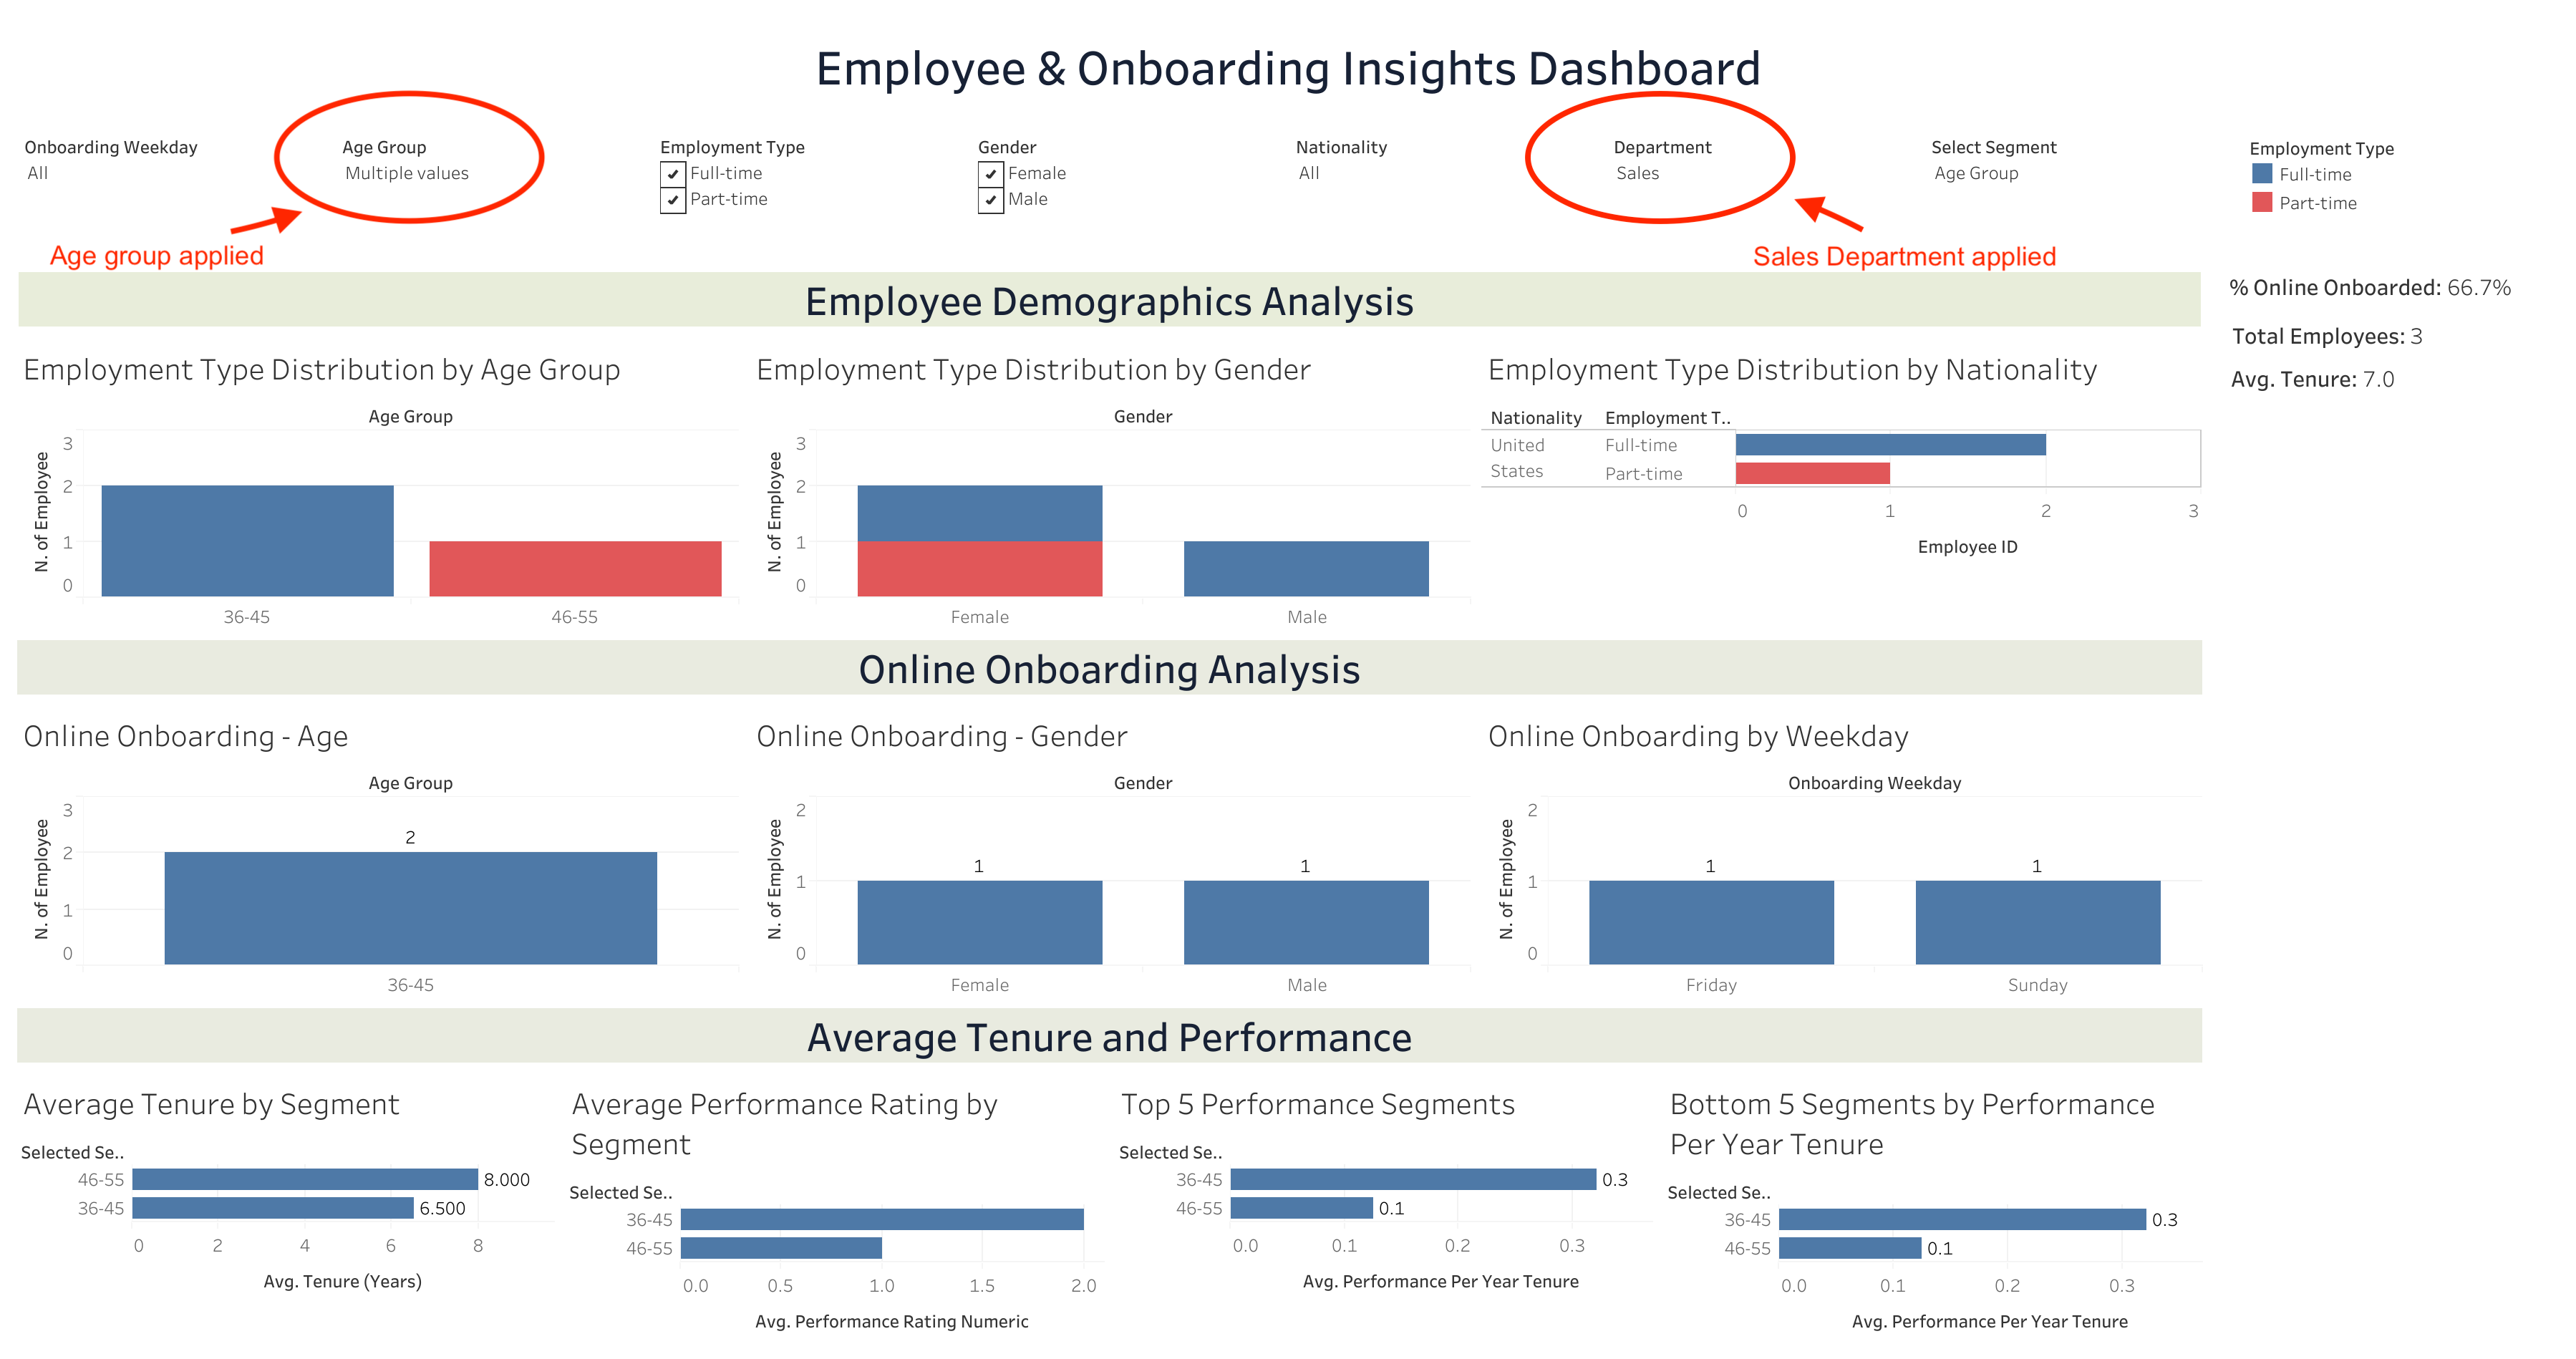

Layout of this report page (visuals, bound fields, positions):
{"tool":"tableau","page":{"name":"Dashboard 1","canvas":[1800,950],"ordinal":0},"visuals":[{"type":"text","box":[8,8,1784,75.1]},{"type":"filter","title":"% Online Onboarding","param":"[federated.0z5hum711jlxwx1byyx951mdgpax].[none:Calculation_1055547055198456:nk]","box":[13,88,222,92]},{"type":"filter","title":"% Online Onboarding","param":"[federated.0z5hum711jlxwx1byyx951mdgpax].[none:Calculation_1055547054964982:nk]","box":[235,88,222,92]},{"type":"filter","title":"% Online Onboarding","param":"[federated.0z5hum711jlxwx1byyx951mdgpax].[none:EmploymentType:nk]","box":[457,88,222,92]},{"type":"filter","title":"% Online Onboarding","param":"[federated.0z5hum711jlxwx1byyx951mdgpax].[none:Gender:nk]","box":[679,88,222,92]},{"type":"filter","title":"% Online Onboarding","param":"[federated.0z5hum711jlxwx1byyx951mdgpax].[none:Nationality:nk]","box":[901,88,222,92]},{"type":"filter","title":"% Online Onboarding","param":"[federated.0z5hum711jlxwx1byyx951mdgpax].[none:Department:nk]","box":[1123,88,222,92]},{"type":"parameter","param":"[Parameters].[Parameter 1]","box":[1345,88,221,92]},{"type":"legend","title":"Employment Type Distribution by Age Group","param":"[federated.0z5hum711jlxwx1byyx951mdgpax].[none:EmploymentType:nk]","box":[1566,88,221,92]},{"type":"text","box":[8,185,1534,48]},{"type":"worksheet","title":"% Online Onboarding","mark":"Automatic","box":[1542,185,250,34]},{"type":"worksheet","title":"Total Employees","mark":"Automatic","box":[1542,219,250,30]},{"type":"worksheet","title":"Employment Type Distribution by Age Group","mark":"Bar","rows":["EmployeeID"],"cols":["Calculation_1055547054964982"],"box":[8,233,512,216]},{"type":"worksheet","title":"Employment Type Distribution by Gender","mark":"Bar","rows":["EmployeeID"],"cols":["Gender"],"box":[520,233,511,216]},{"type":"worksheet","title":"Employment Type Distribution by Nationality","mark":"Automatic","rows":["Nationality","EmploymentType"],"cols":["EmployeeID"],"box":[1031,233,511,216]},{"type":"worksheet","title":"Avg. Company Tenure","mark":"Automatic","box":[1542,249,250,30]},{"type":"text","box":[8,449,1534,46]},{"type":"worksheet","title":"Online Onboarding - Age","mark":"Bar","rows":["EmployeeID"],"cols":["Calculation_1055547054964982"],"box":[8,495,512,185]},{"type":"worksheet","title":"Online Onboarding - Gender","mark":"Automatic","rows":["EmployeeID"],"cols":["Gender"],"box":[520,495,511,185]},{"type":"worksheet","title":"Online Onboarding by Weekday","mark":"Automatic","rows":["EmployeeID"],"cols":["Calculation_1055547055198456"],"box":[1031,495,511,185]},{"type":"text","box":[8,680,1534,46]},{"type":"worksheet","title":"Average Tenure by Segment","mark":"Automatic","rows":["Calculation_1055547095777293"],"cols":["Calculation_1055547055026423"],"box":[8,726,383.5,216]},{"type":"worksheet","title":"Average Performance Rating by Segment","mark":"Automatic","rows":["Calculation_1055547095777293"],"cols":["Calculation_1055547055374585"],"box":[391.5,726,383.5,216]},{"type":"worksheet","title":"Top 5 Performance Segments","mark":"Automatic","rows":["Calculation_1055547095777293"],"cols":["Calculation_1055547056521466"],"box":[775,726,383.5,216]},{"type":"worksheet","title":"Bottom 5 Performance Segments (2)","mark":"Automatic","rows":["Calculation_1055547095777293"],"cols":["Calculation_1055547056521466"],"box":[1158.5,726,383.5,216]}]}

Visuals, with their boxes in screenshot pixels (x1, y1, x2, y2), scaled from the page's 1800x950 canvas onto the 2576x1359 screenshot:
text: crop(11, 11, 2565, 119)
"% Online Onboarding" filter: crop(19, 126, 336, 258)
"% Online Onboarding" filter: crop(336, 126, 654, 258)
"% Online Onboarding" filter: crop(654, 126, 972, 258)
"% Online Onboarding" filter: crop(972, 126, 1289, 258)
"% Online Onboarding" filter: crop(1289, 126, 1607, 258)
"% Online Onboarding" filter: crop(1607, 126, 1925, 258)
parameter: crop(1925, 126, 2241, 258)
"Employment Type Distribution by Age Group" legend: crop(2241, 126, 2557, 258)
text: crop(11, 265, 2207, 334)
"% Online Onboarding" worksheet: crop(2207, 265, 2565, 314)
"Total Employees" worksheet: crop(2207, 314, 2565, 356)
"Employment Type Distribution by Age Group" worksheet (Bar marks): crop(11, 334, 744, 642)
"Employment Type Distribution by Gender" worksheet (Bar marks): crop(744, 334, 1476, 642)
"Employment Type Distribution by Nationality" worksheet: crop(1476, 334, 2207, 642)
"Avg. Company Tenure" worksheet: crop(2207, 356, 2565, 399)
text: crop(11, 642, 2207, 708)
"Online Onboarding - Age" worksheet (Bar marks): crop(11, 708, 744, 973)
"Online Onboarding - Gender" worksheet: crop(744, 708, 1476, 973)
"Online Onboarding by Weekday" worksheet: crop(1476, 708, 2207, 973)
text: crop(11, 973, 2207, 1038)
"Average Tenure by Segment" worksheet: crop(11, 1038, 561, 1348)
"Average Performance Rating by Segment" worksheet: crop(561, 1038, 1109, 1348)
"Top 5 Performance Segments" worksheet: crop(1109, 1038, 1658, 1348)
"Bottom 5 Performance Segments (2)" worksheet: crop(1658, 1038, 2207, 1348)
